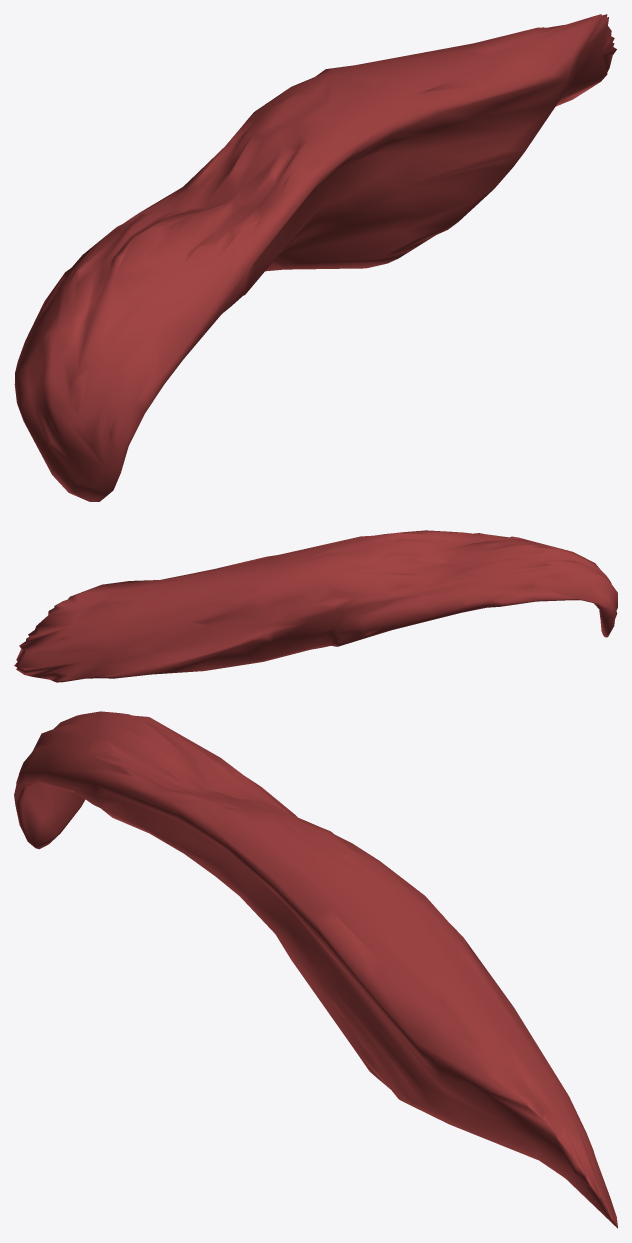
Rendered from supraspinatus-muscle-r.glb.
3 renders of one model, top to bottom at view 1: azimuth 30°, elevation 25°; view 2: azimuth 150°, elevation 25°; view 3: azimuth 270°, elevation 25°, orthographic. The views are drawn at different scales.
Visible parts, largest first — view 1: Supraspinatus muscle.r; view 2: Supraspinatus muscle.r; view 3: Supraspinatus muscle.r.
Boxes of the visible parts, box(x1,y1,x2,y2) form: Supraspinatus muscle.r: box(14, 14, 616, 501); Supraspinatus muscle.r: box(14, 530, 617, 682); Supraspinatus muscle.r: box(14, 711, 617, 1228).
Size of the model in its own units: 0.1251 by 0.0328 by 0.0848.
